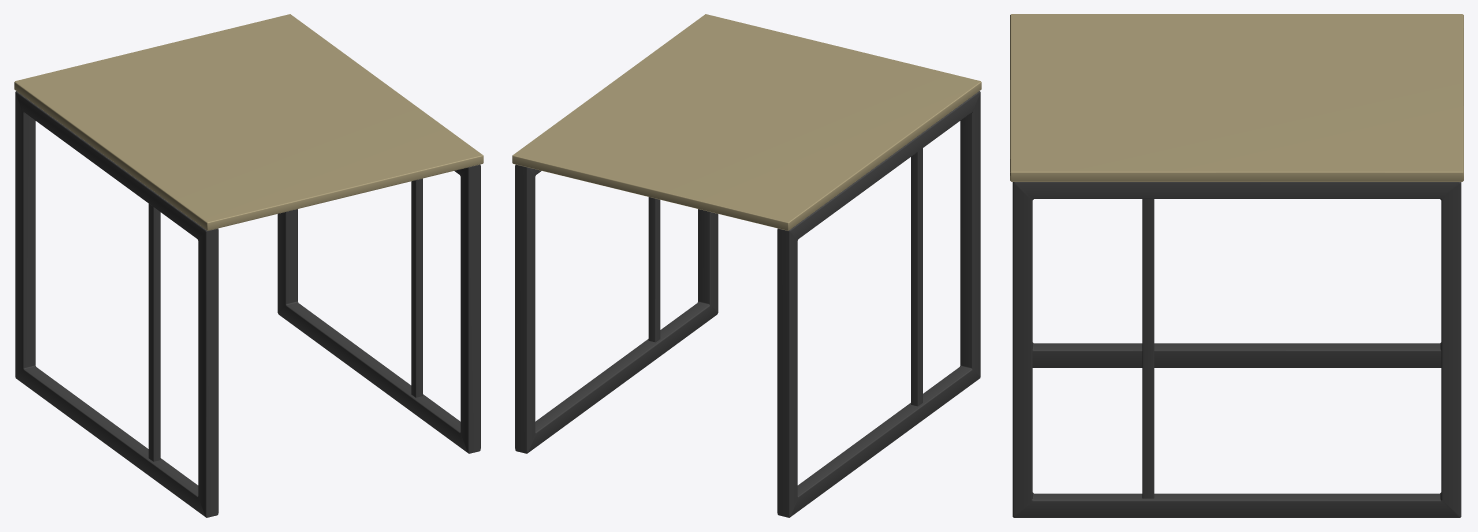
File: square_table.fbx
3 views of the same model, side by side, from view 1: azimuth 30°, elevation 25°; view 2: azimuth 150°, elevation 25°; view 3: azimuth 270°, elevation 25° (orthographic). The views are drawn at different scales.
Visible parts, largest first — view 1: square_table; view 2: square_table; view 3: square_table.
Part boxes in pixels (bbox=[...]): square_table: bbox=[14, 14, 483, 517]; square_table: bbox=[512, 14, 981, 517]; square_table: bbox=[1010, 14, 1463, 517].
Size of the model in its own units: 2.49 by 2.55 by 3.02.
